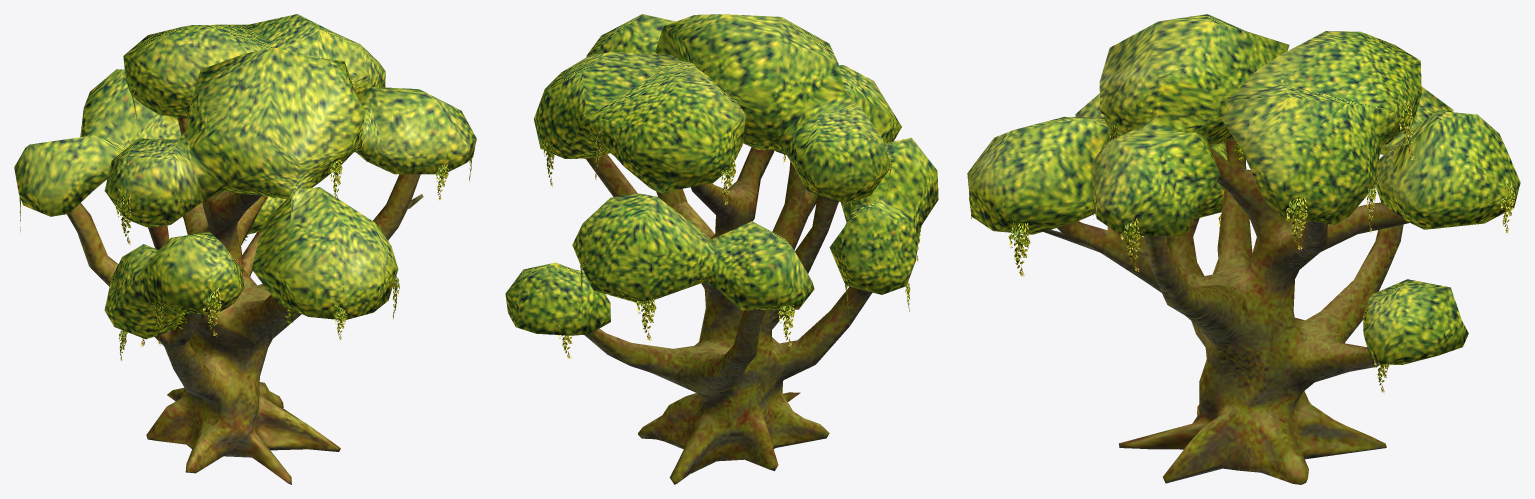
File: jungle_env_tree.gltf
3 renders of one model, left to right at view 1: azimuth 30°, elevation 25°; view 2: azimuth 150°, elevation 25°; view 3: azimuth 270°, elevation 25°, orthographic. The views are drawn at different scales.
Parts seen in each view (by area): view 1: jungle_env_tree__glb; view 2: jungle_env_tree__glb; view 3: jungle_env_tree__glb.
Part boxes in pixels (bbox=[...]): jungle_env_tree__glb: bbox=[14, 14, 476, 484]; jungle_env_tree__glb: bbox=[505, 14, 938, 484]; jungle_env_tree__glb: bbox=[967, 14, 1520, 484].
Size of what is drawn, in the model's own units: 10.4 by 12.04 by 13.57.
Materials: 2 (2 with a texture image).
